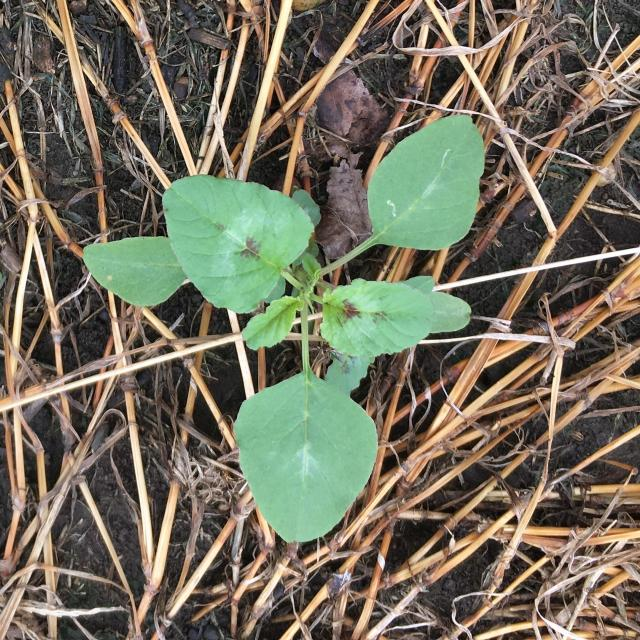PalmerAmaranth: (83, 115, 486, 543)
